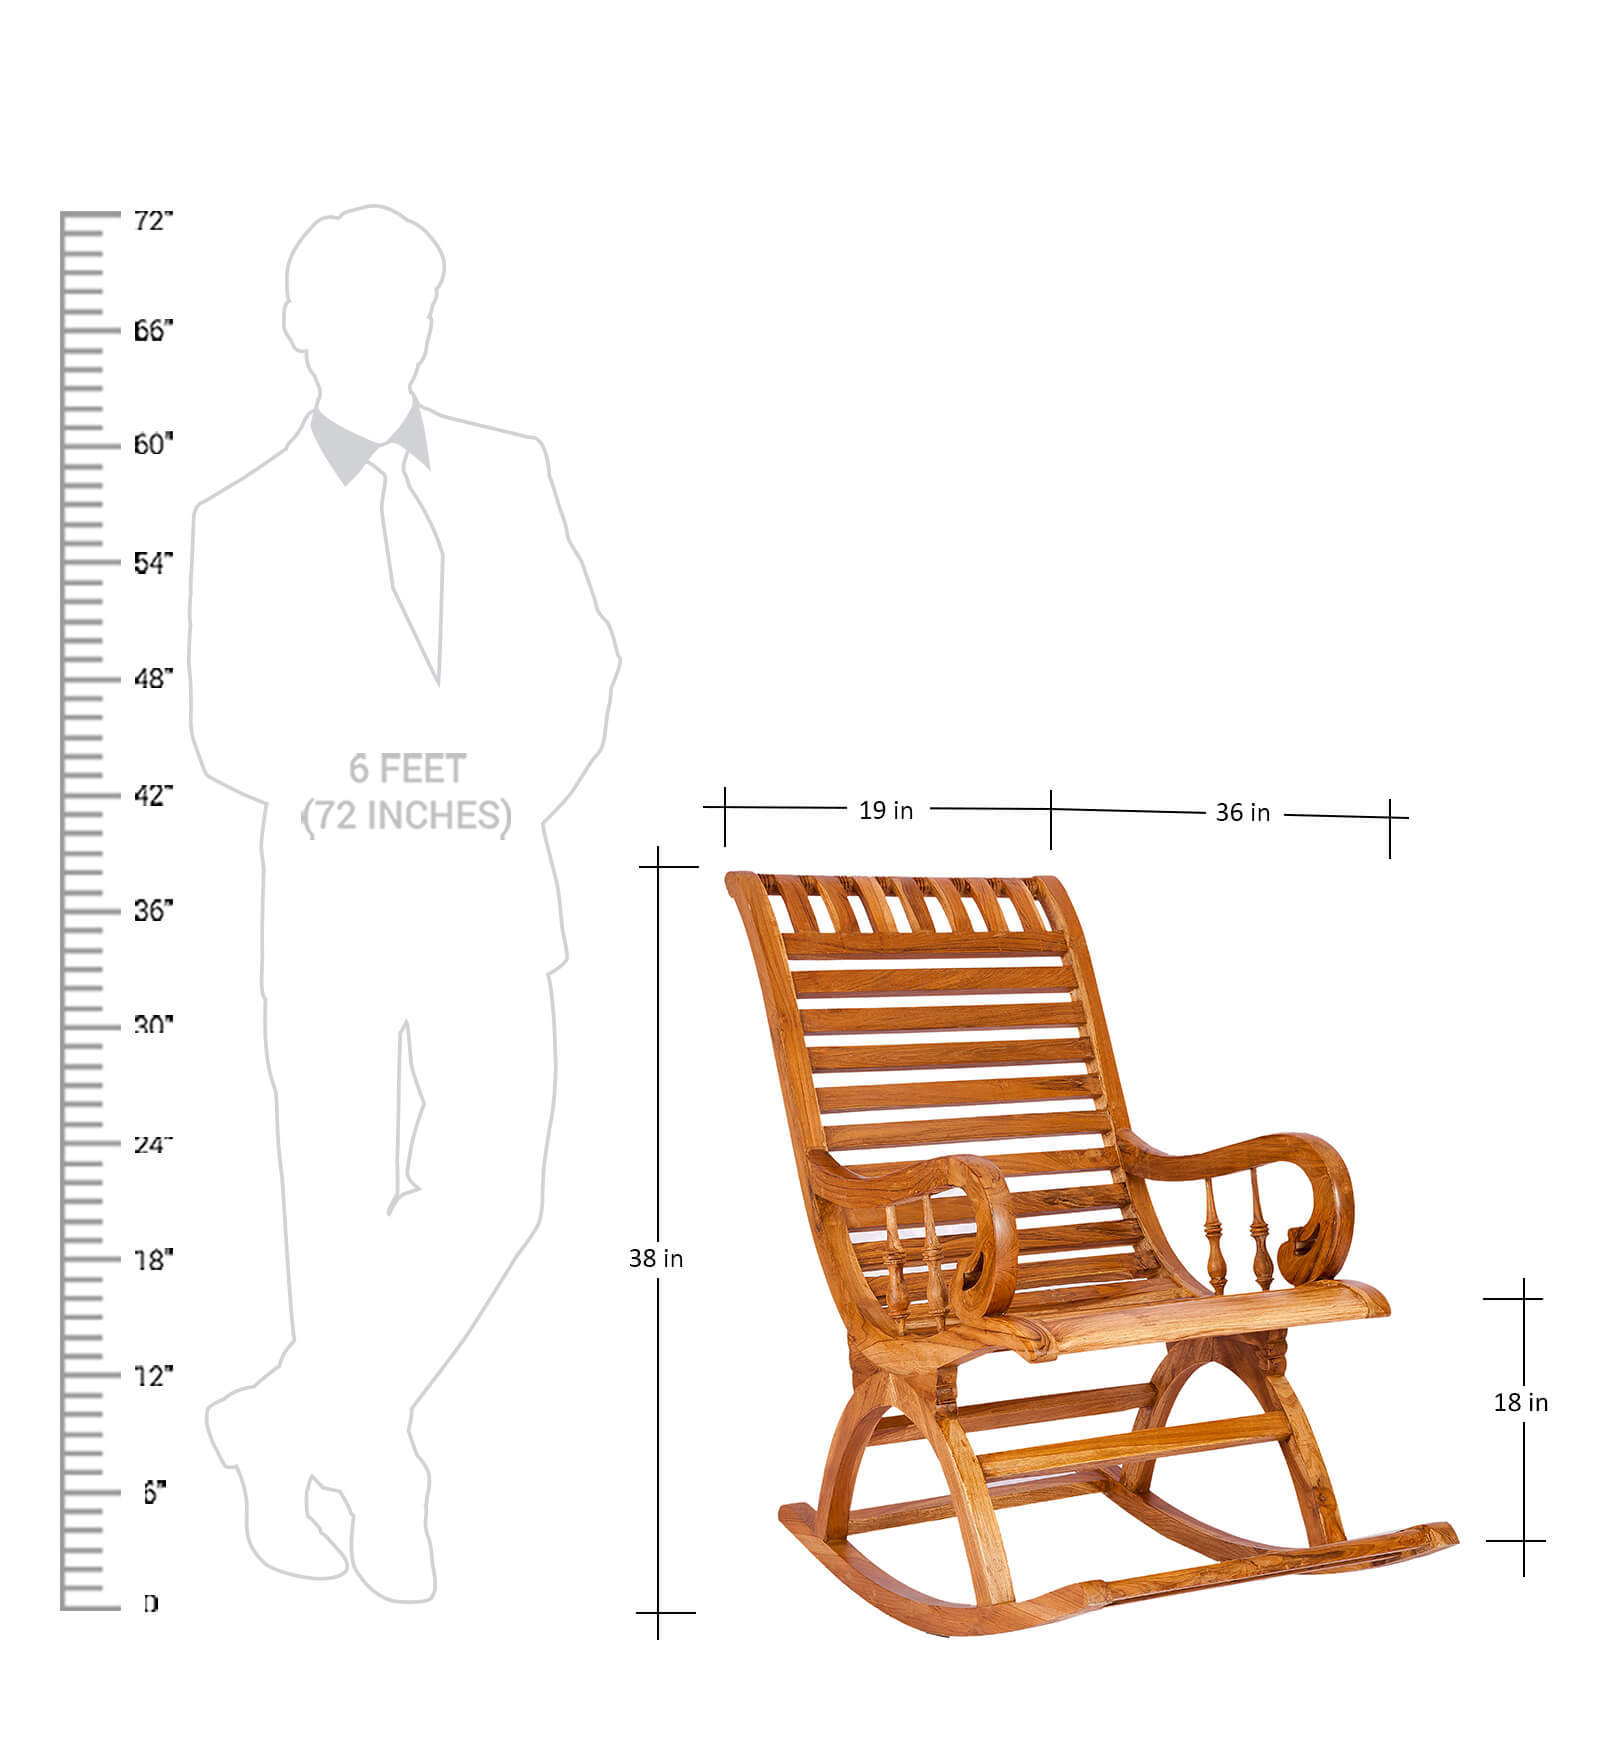Teak Wood Rocking Chair in Light Teak Finish by Karigar: (697, 846, 1485, 1647)
